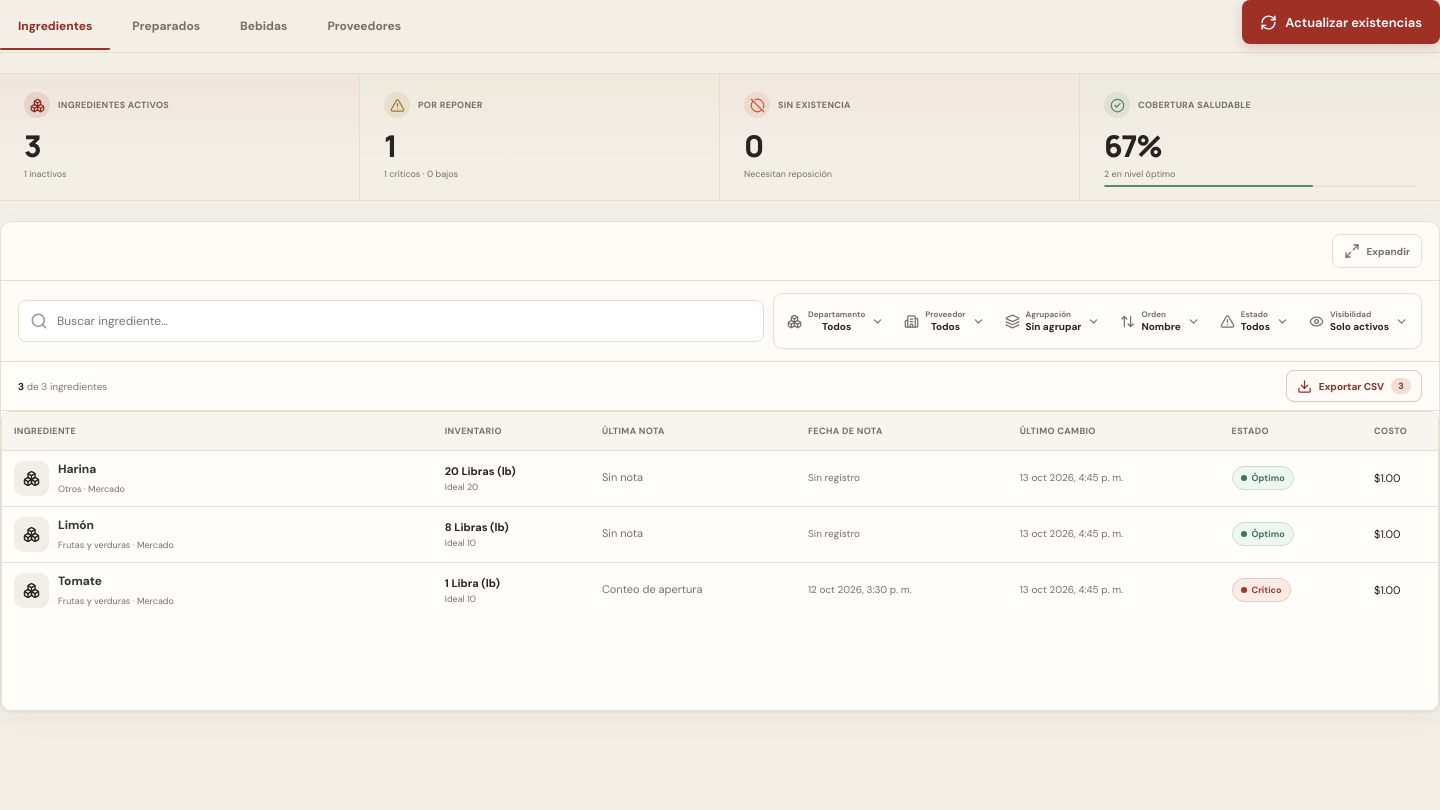
Test: CatalogPage inventory explorer › shows the database cause and highlights submitted beverages when an existence update fails
The width and height of the screenshot is (1440, 810).
Expected: the text "Tomate" is shown, [58, 573, 102, 589]
Click the tab "Bebidas": {"x": 264, "y": 26} [222, 2, 305, 50]
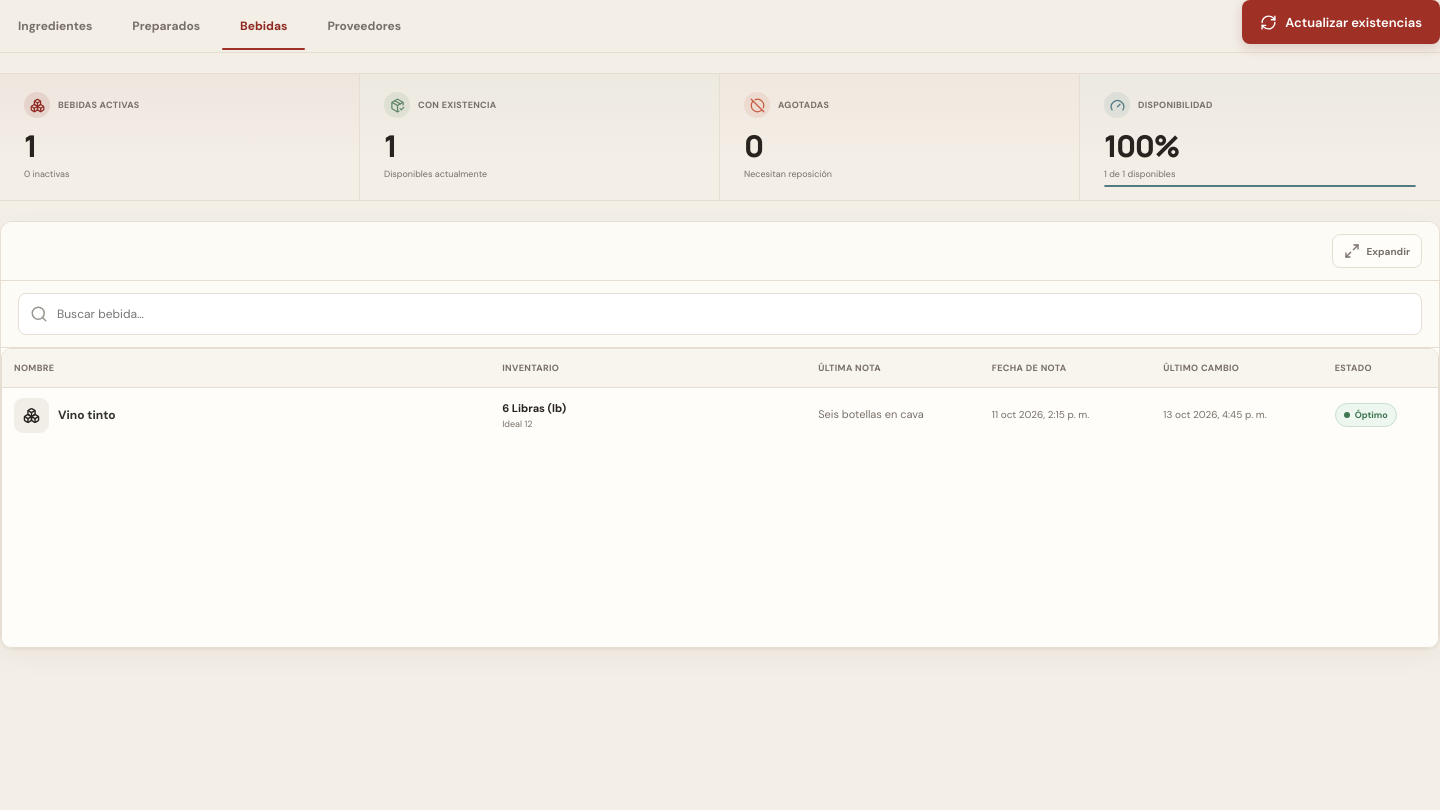
Click the button "Actualizar existencias": {"x": 1341, "y": 22} [1242, 0, 1439, 44]
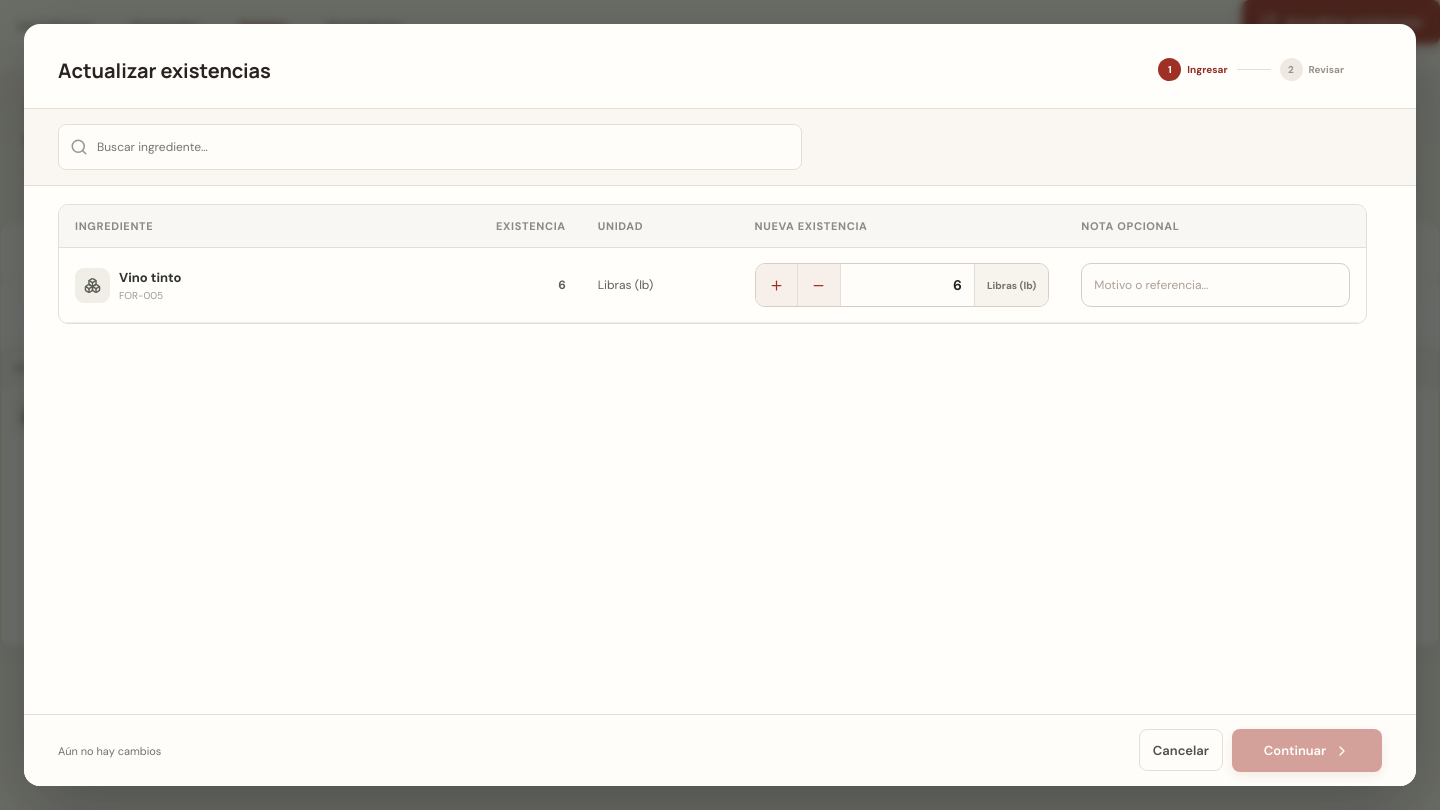
Replace the text in the field named "Nueva existencia de Vino tinto" with "5": {"x": 907, "y": 285} [841, 276, 974, 294]
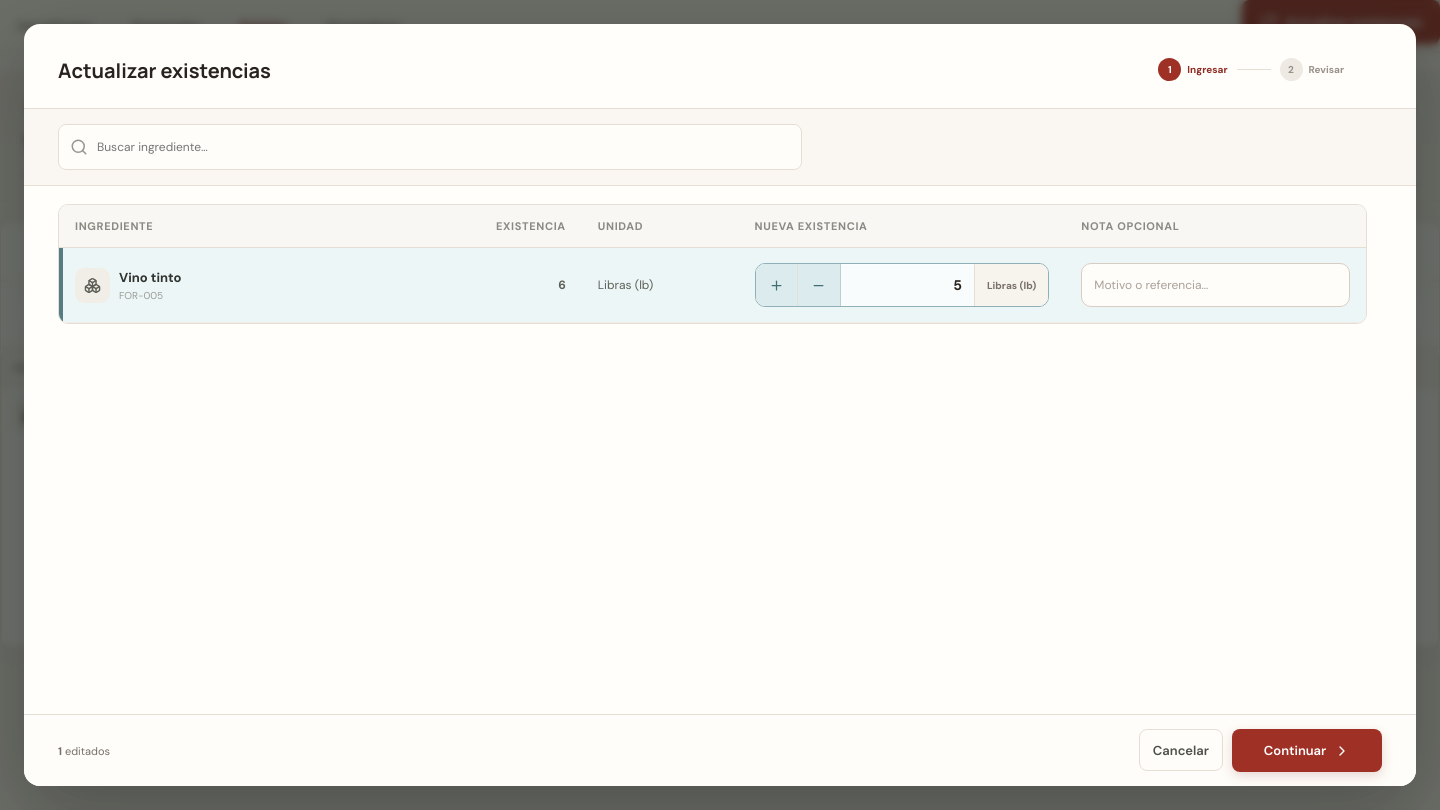
Click the button "Continuar": {"x": 1307, "y": 750} [1232, 729, 1382, 772]
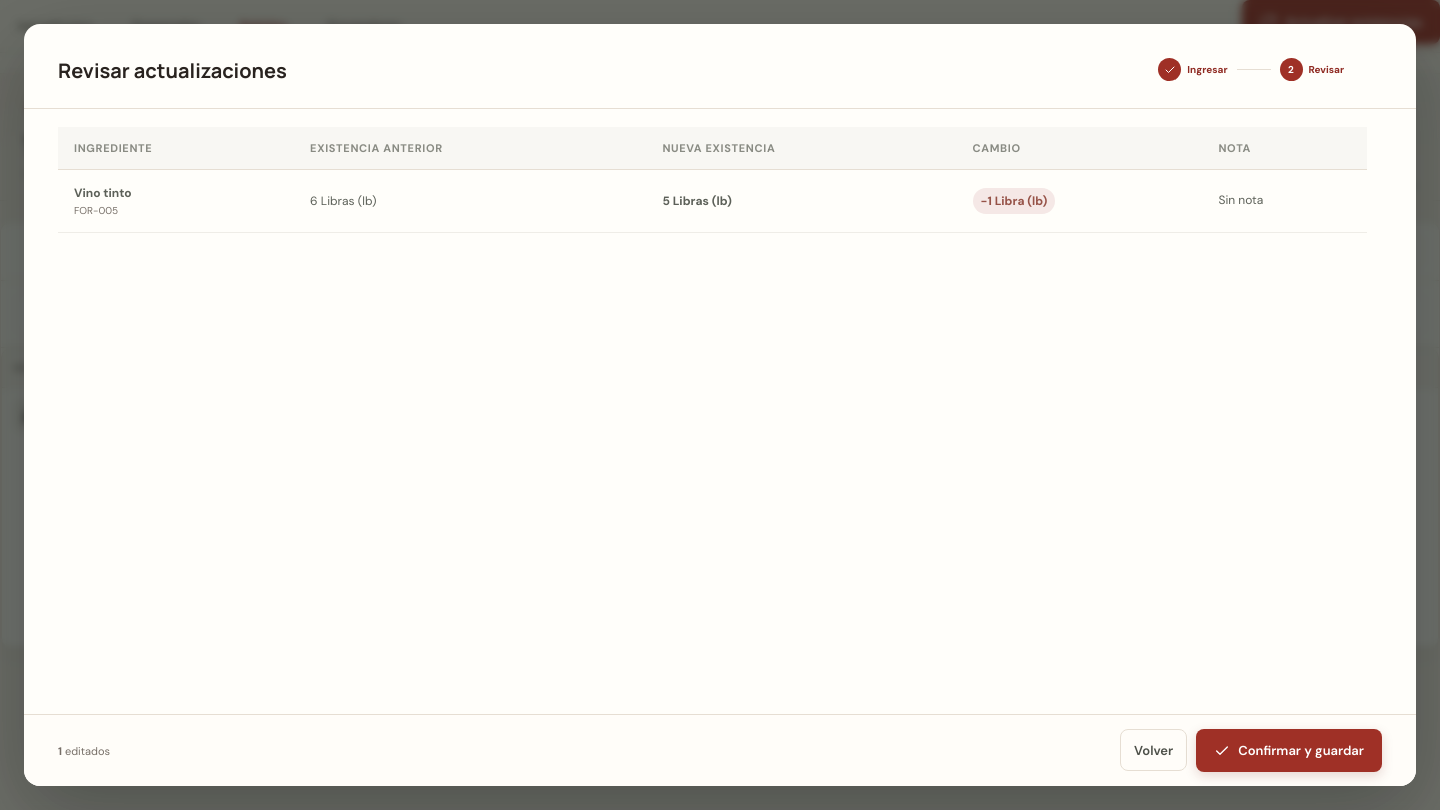
Click the button "Confirmar y guardar": {"x": 1289, "y": 750} [1196, 729, 1382, 772]
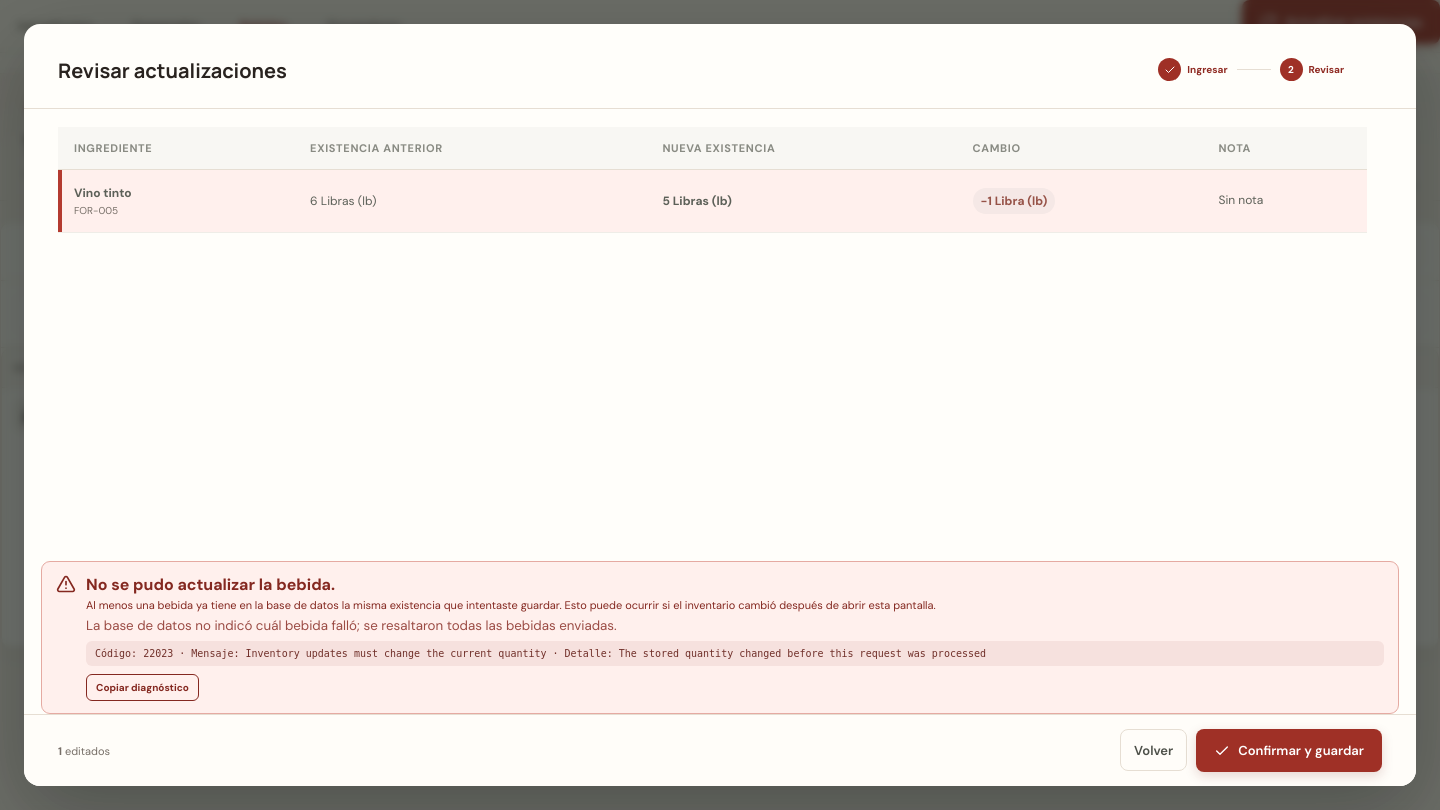
Expected: the message shows "No se pudo actualizar la bebida", [86, 574, 335, 595]
Expected: the message shows "ya tiene en la base de datos la misma existencia", [86, 598, 936, 612]
Expected: the message shows "Código: 22023", [95, 648, 986, 659]
